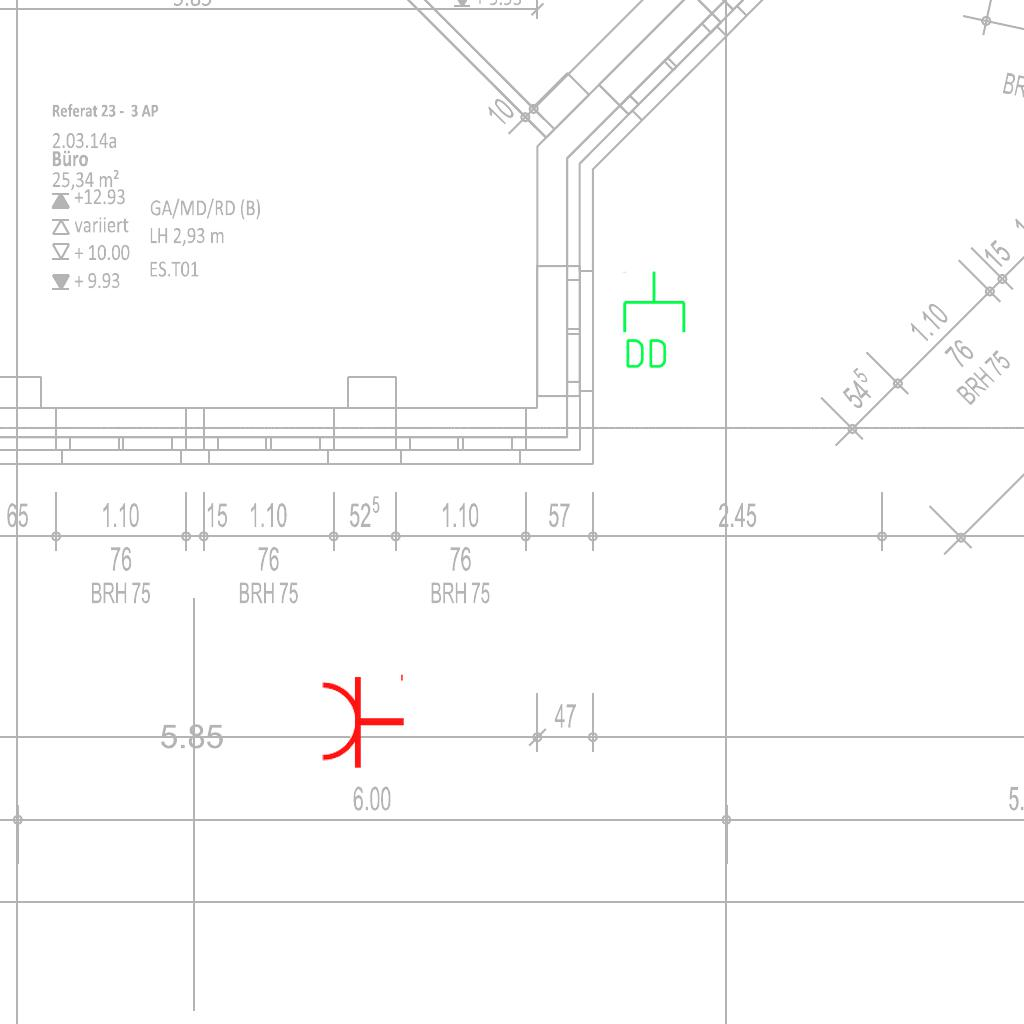Datenanschluss_zweifach: (619, 269, 688, 372)
Schukosteckdose_einfach: (319, 670, 406, 770)
